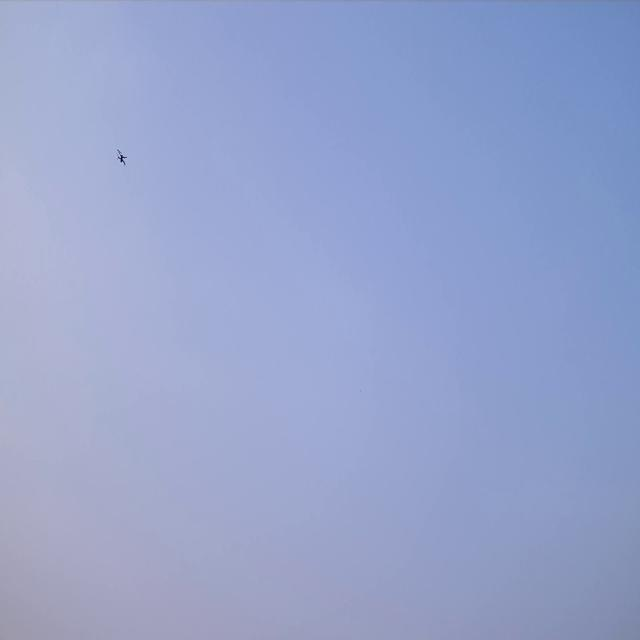UAV: (116, 146, 128, 168)
